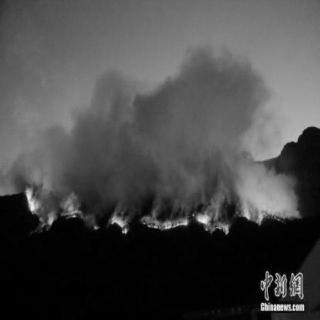Fire: (197, 207, 233, 237), (142, 211, 190, 231), (110, 211, 128, 237), (25, 182, 37, 214), (66, 203, 82, 216), (243, 207, 251, 223), (92, 220, 100, 230), (47, 216, 55, 226)
Smoke: (152, 35, 266, 202), (238, 152, 298, 220), (27, 117, 71, 187)
